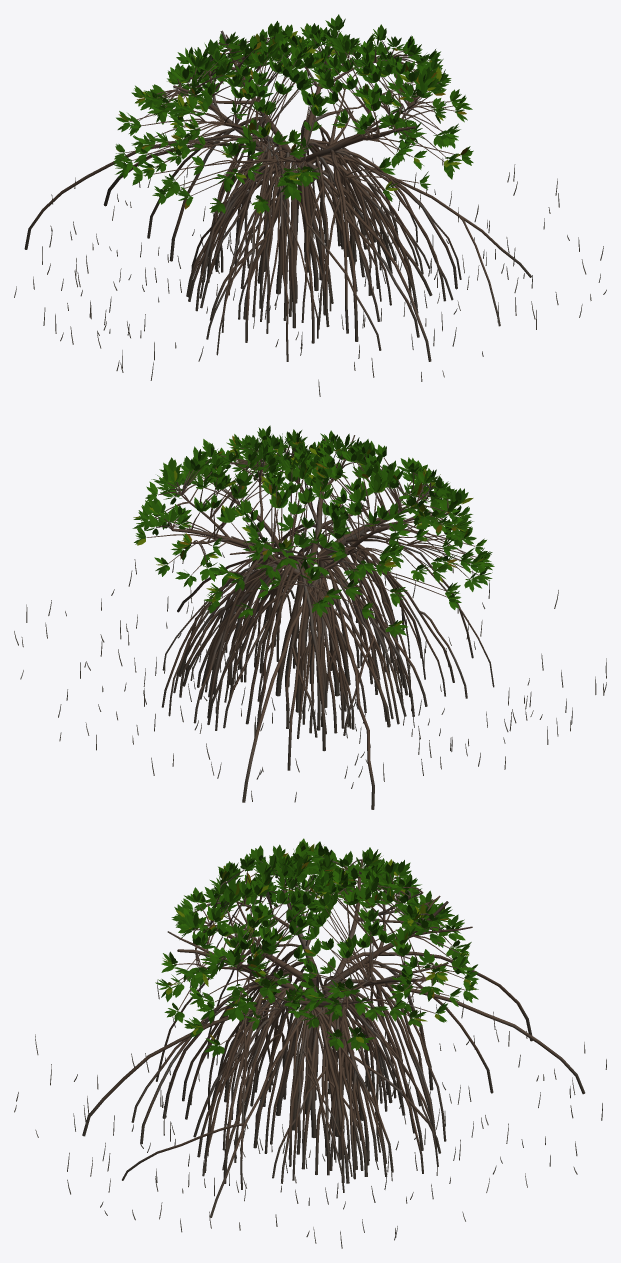
File: RedMangrove_01.fbx
3 views of the same model, one above another, from view 1: azimuth 30°, elevation 25°; view 2: azimuth 150°, elevation 25°; view 3: azimuth 270°, elevation 25° (orthographic). The views are drawn at different scales.
Parts seen in each view (by area): view 1: RedMangrove_01_LOD0; view 2: RedMangrove_01_LOD0; view 3: RedMangrove_01_LOD0.
Boxes of the visible parts, x1,y1,x2,y2 form: RedMangrove_01_LOD0: [14, 14, 606, 396]; RedMangrove_01_LOD0: [14, 425, 606, 809]; RedMangrove_01_LOD0: [14, 838, 606, 1248].
Size of what is drawn, in the model's own units: 8.24 by 3.74 by 7.83.
